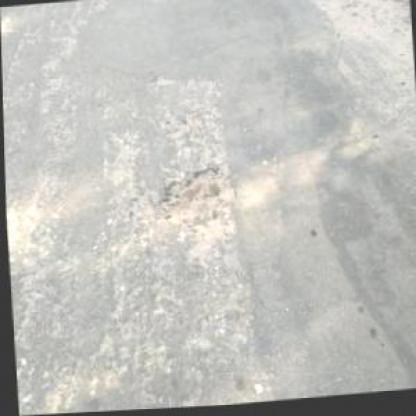pothole: (150, 162, 238, 236)
